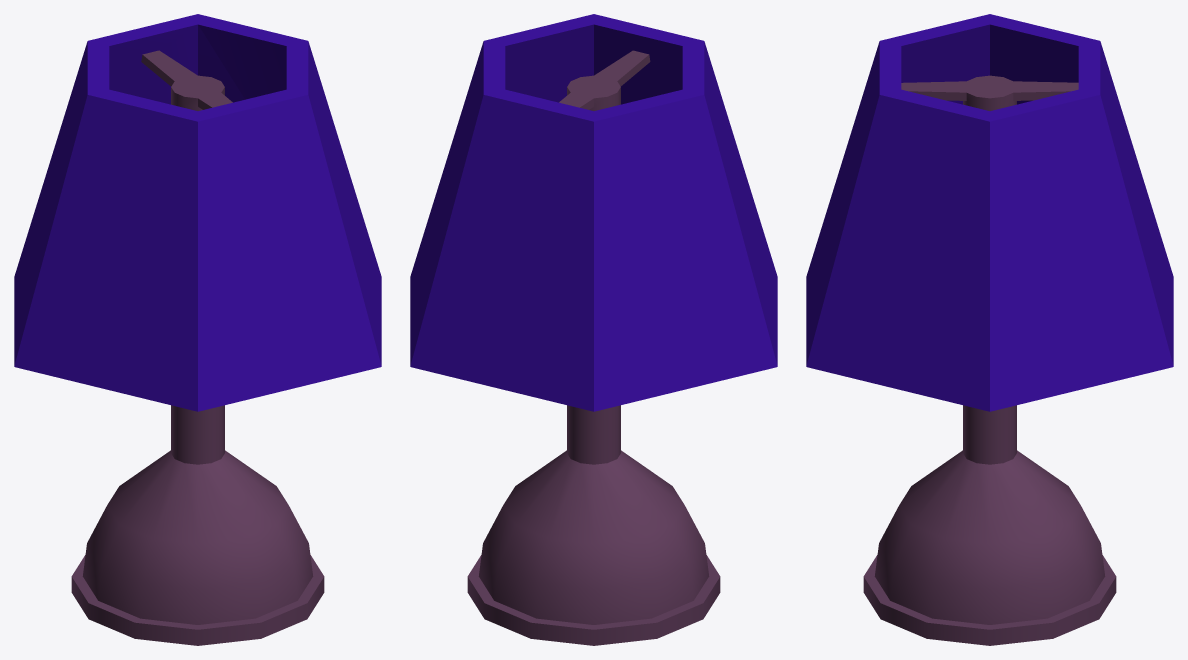
File: LamparaEscritorio.fbx
3 views of the same model, side by side, from view 1: azimuth 30°, elevation 25°; view 2: azimuth 150°, elevation 25°; view 3: azimuth 270°, elevation 25° (orthographic).
Parts seen in each view (by area): view 1: Cylinder008; view 2: Cylinder008; view 3: Cylinder008.
Part boxes in pixels (x1,y1,x2,y2): Cylinder008: (14, 14, 381, 645); Cylinder008: (410, 14, 777, 645); Cylinder008: (806, 14, 1173, 645).
Bounding box in the file's own units: 7.02 × 9.57 × 6.08.
